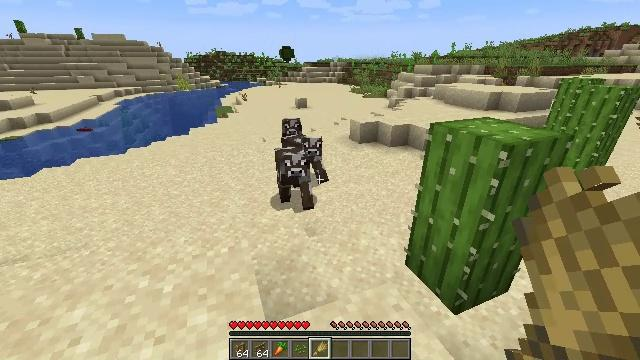cow: (276, 150, 312, 206), (286, 136, 328, 180), (282, 117, 303, 135)
